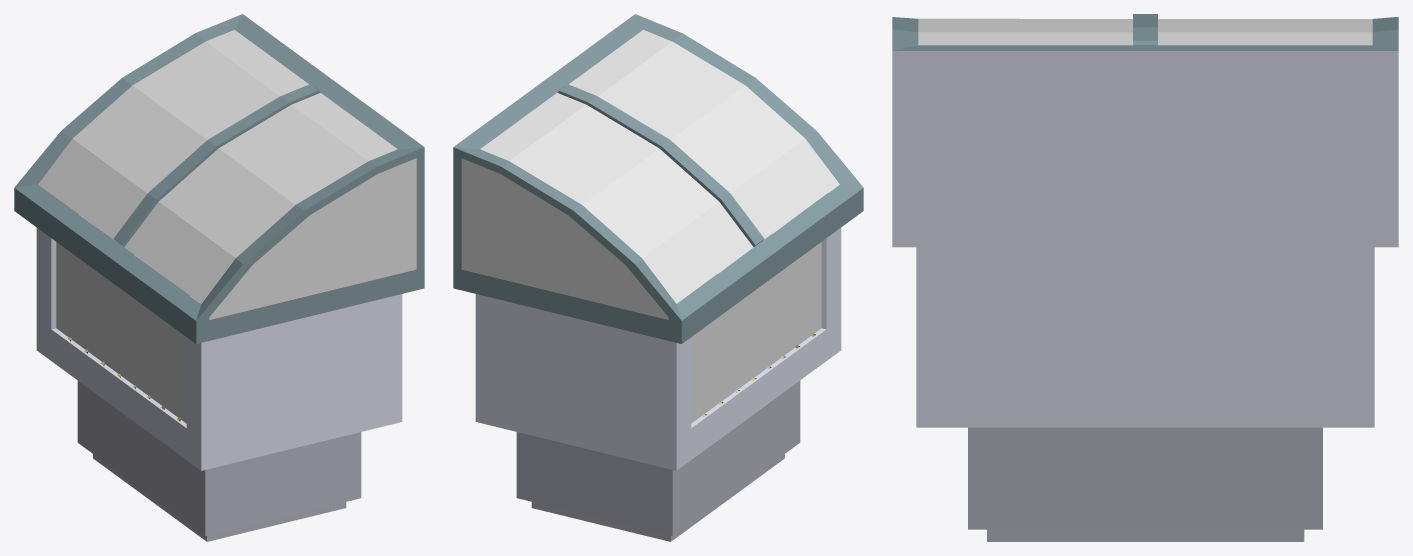
File: freezer.fbx
3 views of the same model, side by side, from view 1: azimuth 30°, elevation 25°; view 2: azimuth 150°, elevation 25°; view 3: azimuth 270°, elevation 25° (orthographic). The views are drawn at different scales.
Parts seen in each view (by area): view 1: freezer, freezer_glass, freezer_glasstop_R, freezer_glasstop_L; view 2: freezer, freezer_glass, freezer_glasstop_L, freezer_glasstop_R; view 3: freezer, freezer_glasstop_R, freezer_glasstop_L.
Part boxes in pixels (x1,y1,x2,y2): freezer: (14,14,424,541); freezer_glass: (56,158,416,423); freezer_glasstop_R: (124,93,397,303); freezer_glasstop_L: (38,30,308,239); freezer: (453,14,863,541); freezer_glass: (461,158,821,423); freezer_glasstop_L: (480,93,753,303); freezer_glasstop_R: (569,30,839,239); freezer: (892,14,1398,541); freezer_glasstop_R: (918,18,1132,45); freezer_glasstop_L: (1158,19,1372,45).
Bounding box in the file's own units: 4.08 × 6.39 × 5.63.
